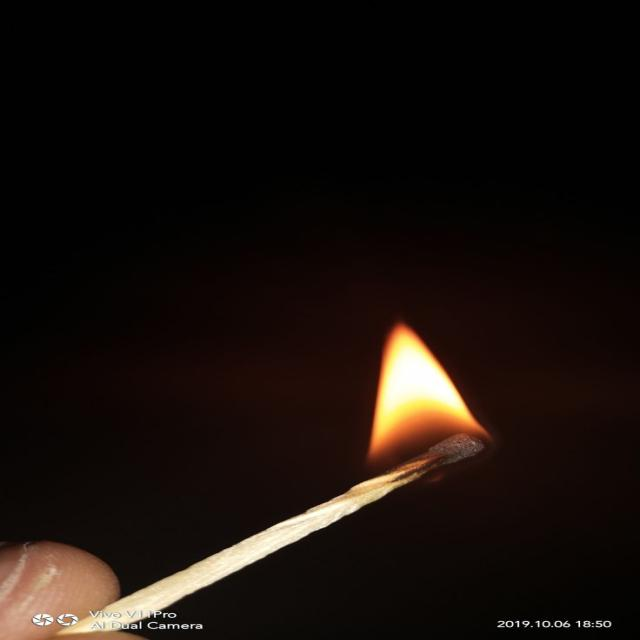fire: (362, 323, 486, 477)
